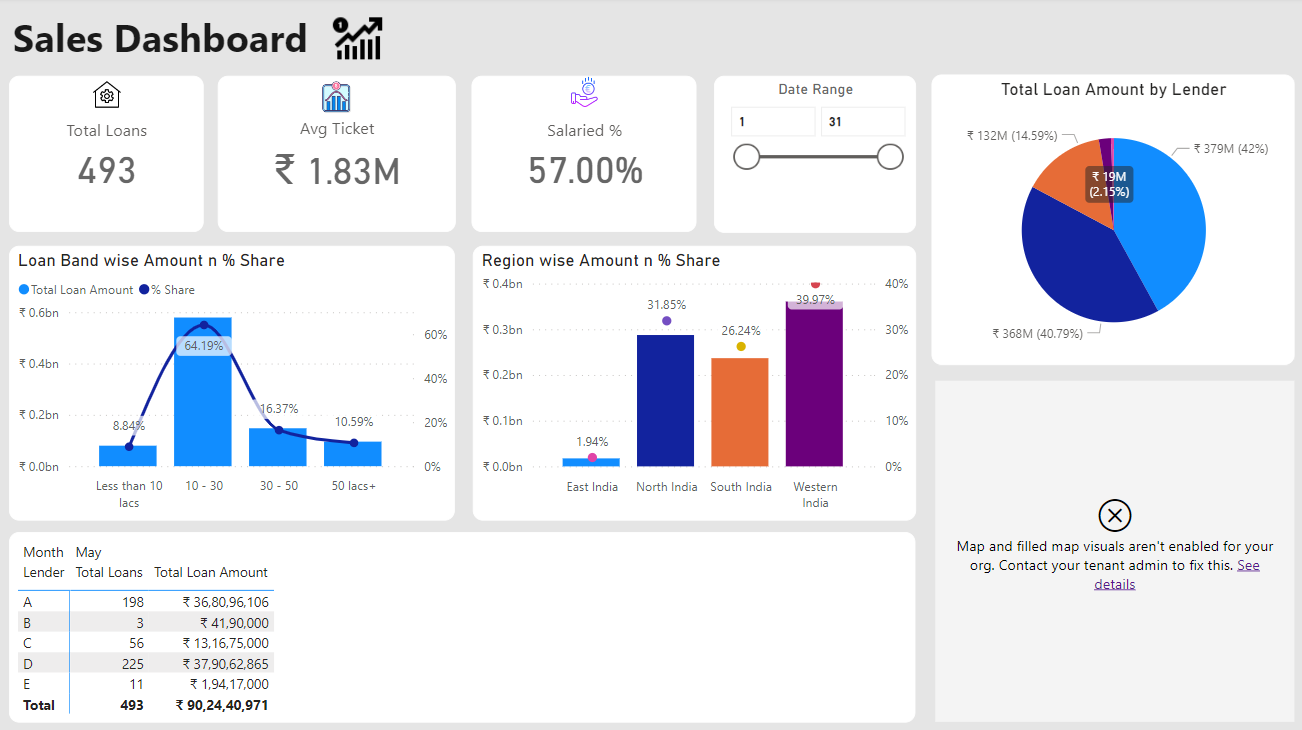

Layout of this report page (visuals, bound fields, positions):
{"tool":"powerbi","page":{"name":"Views","canvas":[1280,720],"ordinal":2},"visuals":[{"type":"lineStackedColumnComboChart","fields":{"Category":["Data.Loan Band"],"Y":["All_measures.Total Loan Amount"],"Y2":["Divide(All_measures.Total Loan Amount, ScopedEval(All_measures.Total Loan Amount, []))"]},"box":[0,0,399.7,299.5],"z":0},{"type":"lineStackedColumnComboChart","fields":{"Category":["Data.Region","Data.State","Data.BRANCHNAME"],"Y":["All_measures.Total Loan Amount"],"Y2":["Divide(All_measures.Total Loan Amount, ScopedEval(All_measures.Total Loan Amount, []))"],"Series":["Data.Region"]},"box":[399.7,0,568.4,299.5],"z":1000},{"type":"actionButton","box":[0,0,100,40],"z":2000},{"type":"pieChart","fields":{"Category":["Data.Lender"],"Y":["All_measures.Total Loan Amount","Divide(All_measures.Total Loan Amount, ScopedEval(All_measures.Total Loan Amount, []))"]},"box":[0,309,381,396],"z":3000}]}

Visuals, with their boxes in screenshot pixels (x1, y1, x2, y2), scaled from the page's 1280x720 canvas onto the 1302x730 screenshot:
lineStackedColumnComboChart - Data.Loan Band x All_measures.Total Loan Amount: l=0, t=0, r=407, b=304
lineStackedColumnComboChart - Data.Region x Data.State: l=407, t=0, r=985, b=304
actionButton: l=0, t=0, r=102, b=41
pieChart - Data.Lender x All_measures.Total Loan Amount: l=0, t=313, r=388, b=715
